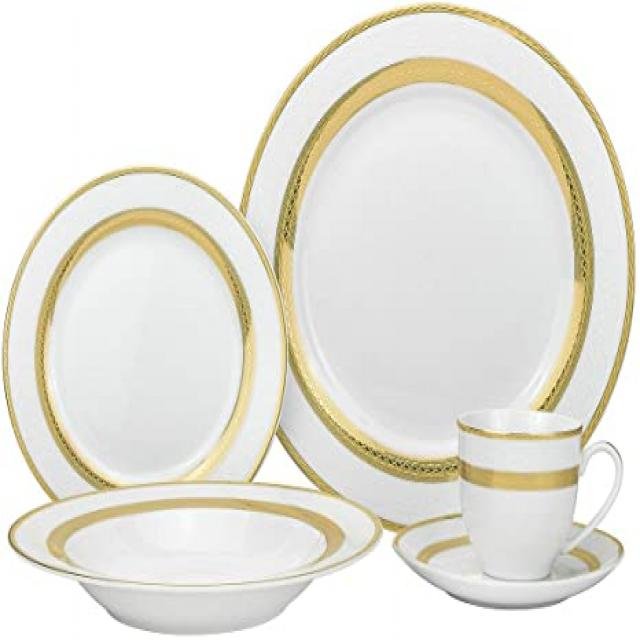non-organic waste: (211, 29, 640, 550), (11, 148, 291, 526), (10, 480, 368, 626)
